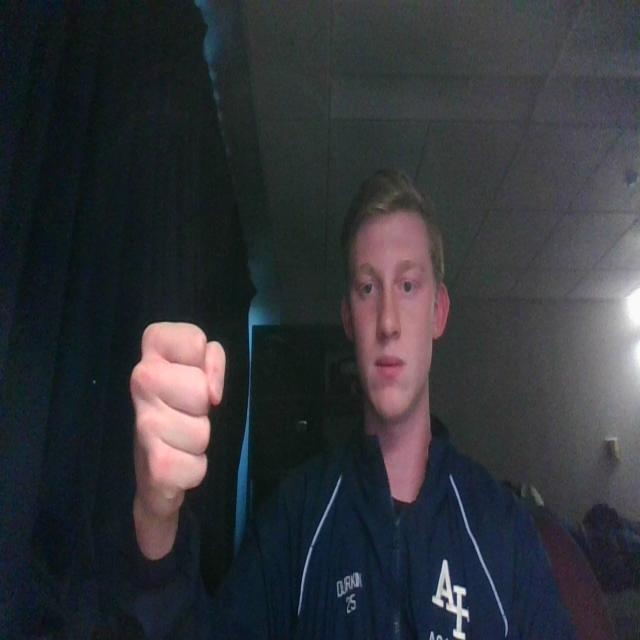rock: (125, 309, 228, 529)
